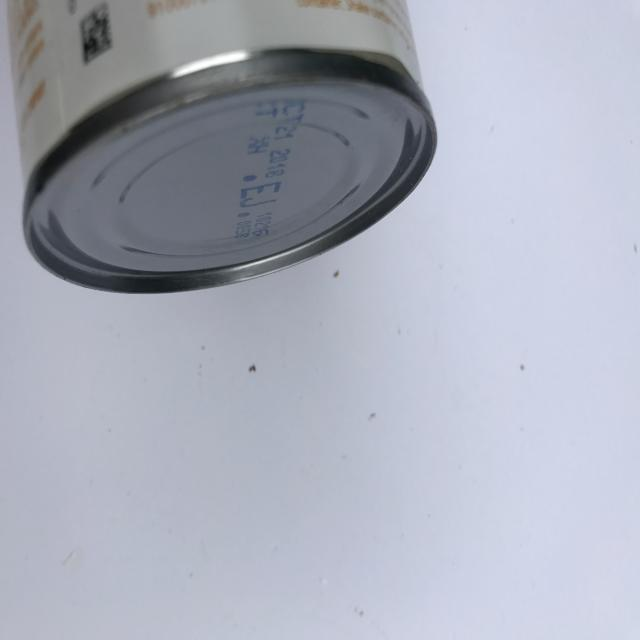metal: (6, 0, 440, 295)
